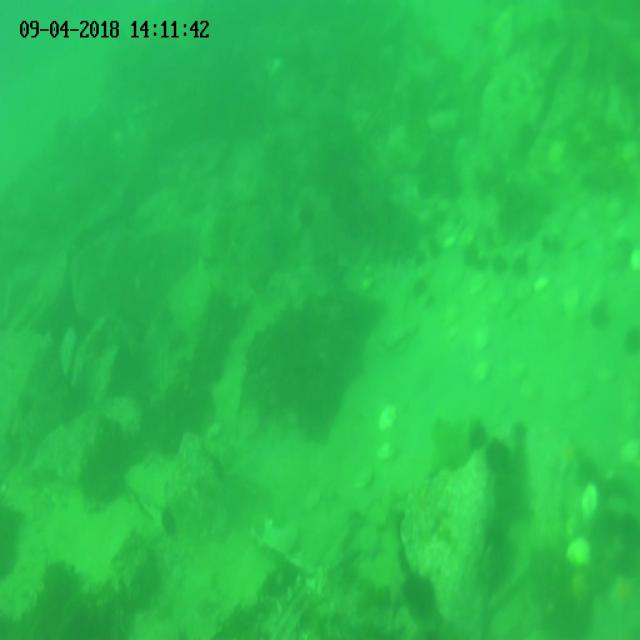echinus: (403, 569, 434, 615), (485, 441, 514, 477), (591, 304, 610, 330), (464, 240, 479, 266), (512, 254, 528, 276), (493, 253, 509, 275), (426, 239, 442, 259), (411, 281, 426, 301), (468, 427, 483, 446)
scallop: (59, 328, 80, 378), (564, 540, 590, 568), (580, 484, 598, 519), (376, 402, 396, 430), (471, 325, 491, 349), (378, 440, 399, 462), (471, 360, 489, 385), (522, 382, 542, 404), (353, 471, 372, 492)
